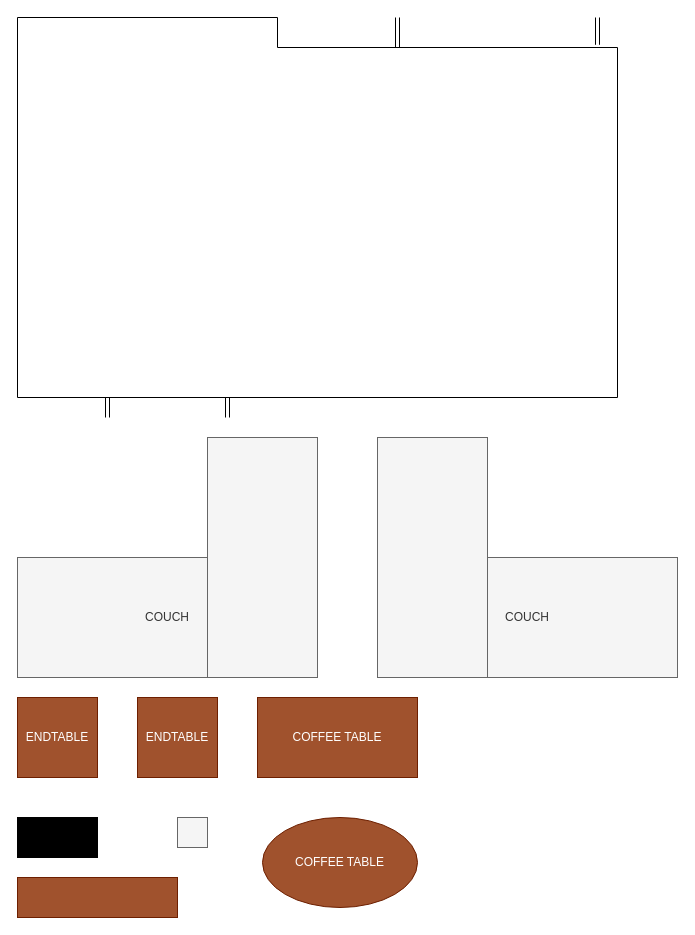
The diagram is 695 pixels wide and 935 high, and some of its shapes have lost their labels. Each missing label, with the box of its shape:
BOOKCASE: (16, 816, 98, 858)
CONSOLE: (16, 876, 178, 918)
LAMP: (176, 816, 208, 848)
